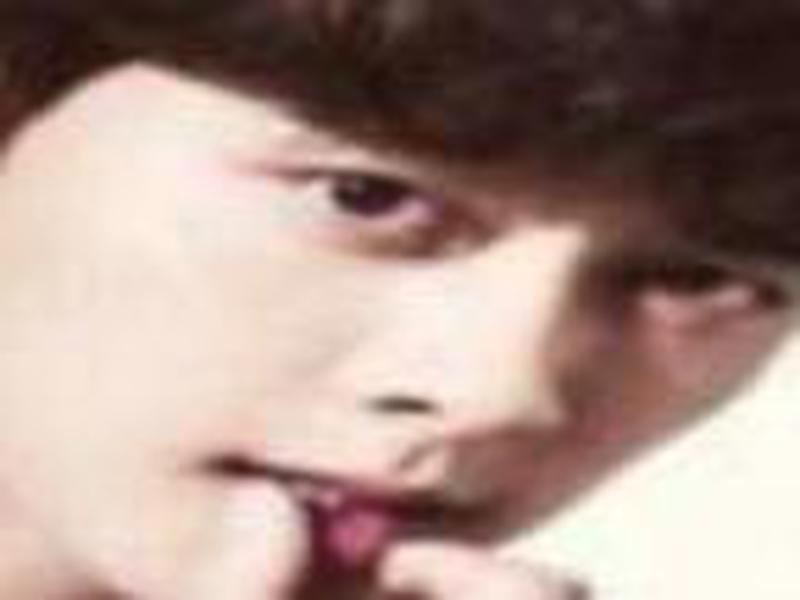without_mask: (6, 57, 797, 600)
